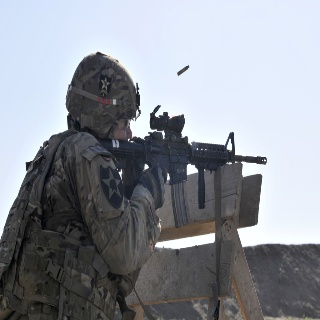rifle: (96, 102, 270, 230)
